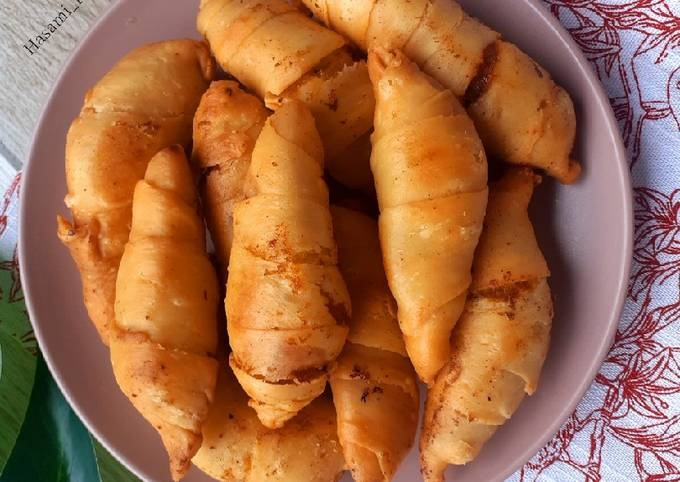pisang_molen: (211, 96, 354, 429), (368, 38, 490, 382), (420, 176, 552, 482), (110, 144, 218, 475)
